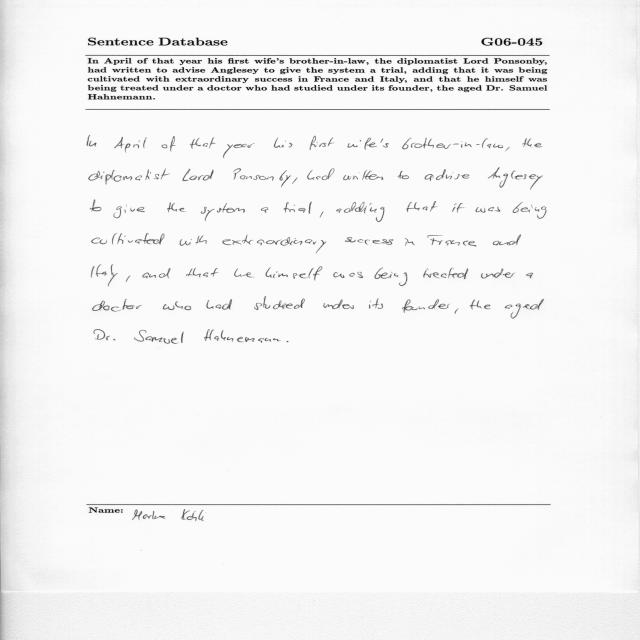word: (223, 235, 327, 254), (89, 169, 170, 185), (488, 168, 543, 190), (402, 138, 503, 149), (234, 169, 292, 188), (204, 329, 281, 343), (336, 202, 385, 222), (92, 233, 165, 245), (266, 266, 323, 281), (201, 203, 245, 221), (505, 299, 544, 318), (254, 296, 305, 310), (134, 330, 184, 344), (402, 299, 450, 313), (375, 267, 408, 286), (427, 235, 477, 247), (93, 299, 142, 311), (513, 202, 547, 219), (91, 265, 118, 286), (425, 169, 470, 181), (114, 137, 147, 153), (347, 138, 389, 150), (423, 268, 468, 279), (223, 143, 255, 158), (113, 205, 145, 218), (343, 170, 384, 180), (345, 237, 394, 245), (183, 169, 214, 181), (310, 136, 335, 150), (406, 201, 437, 212), (481, 269, 515, 279), (284, 202, 312, 214), (186, 268, 219, 278), (307, 168, 334, 180), (190, 137, 216, 149), (323, 300, 354, 310), (179, 235, 207, 246), (493, 235, 521, 246), (206, 299, 232, 310), (143, 268, 171, 278), (163, 301, 191, 310), (94, 330, 115, 341), (161, 136, 176, 151), (470, 300, 491, 310), (274, 137, 292, 148), (167, 202, 186, 212), (522, 139, 543, 148), (234, 269, 254, 278), (334, 272, 364, 278), (369, 298, 383, 309), (476, 207, 501, 213), (90, 200, 102, 211), (452, 203, 464, 213), (87, 136, 97, 147), (398, 171, 409, 179), (405, 238, 415, 246), (261, 207, 268, 213), (292, 178, 298, 184), (126, 276, 131, 283), (526, 273, 533, 278), (505, 147, 510, 151), (455, 309, 459, 314), (320, 212, 323, 218), (287, 341, 289, 342)
